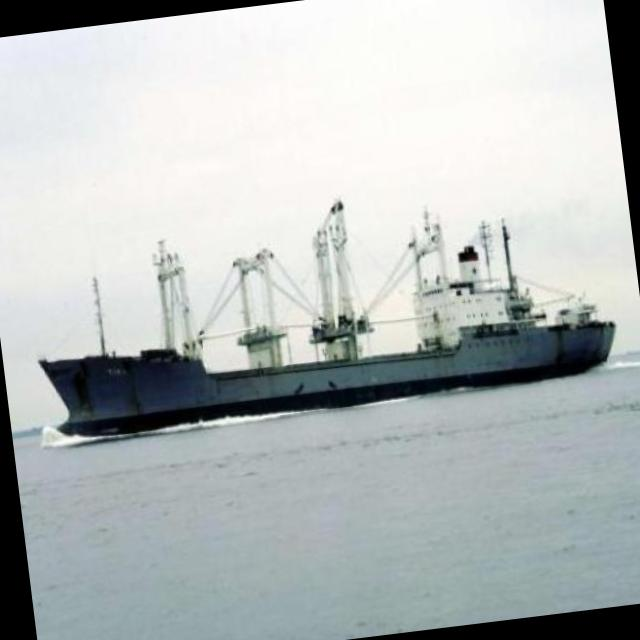boat: (15, 206, 636, 446)
